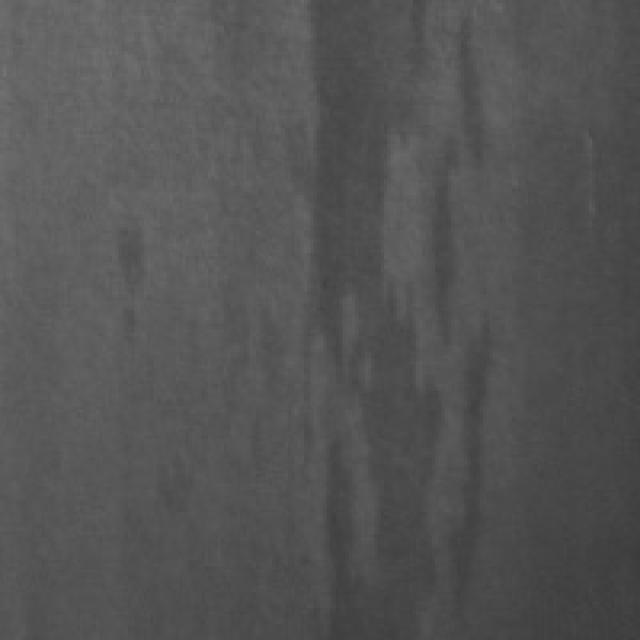inclusion: (301, 0, 502, 627), (106, 211, 172, 349)
